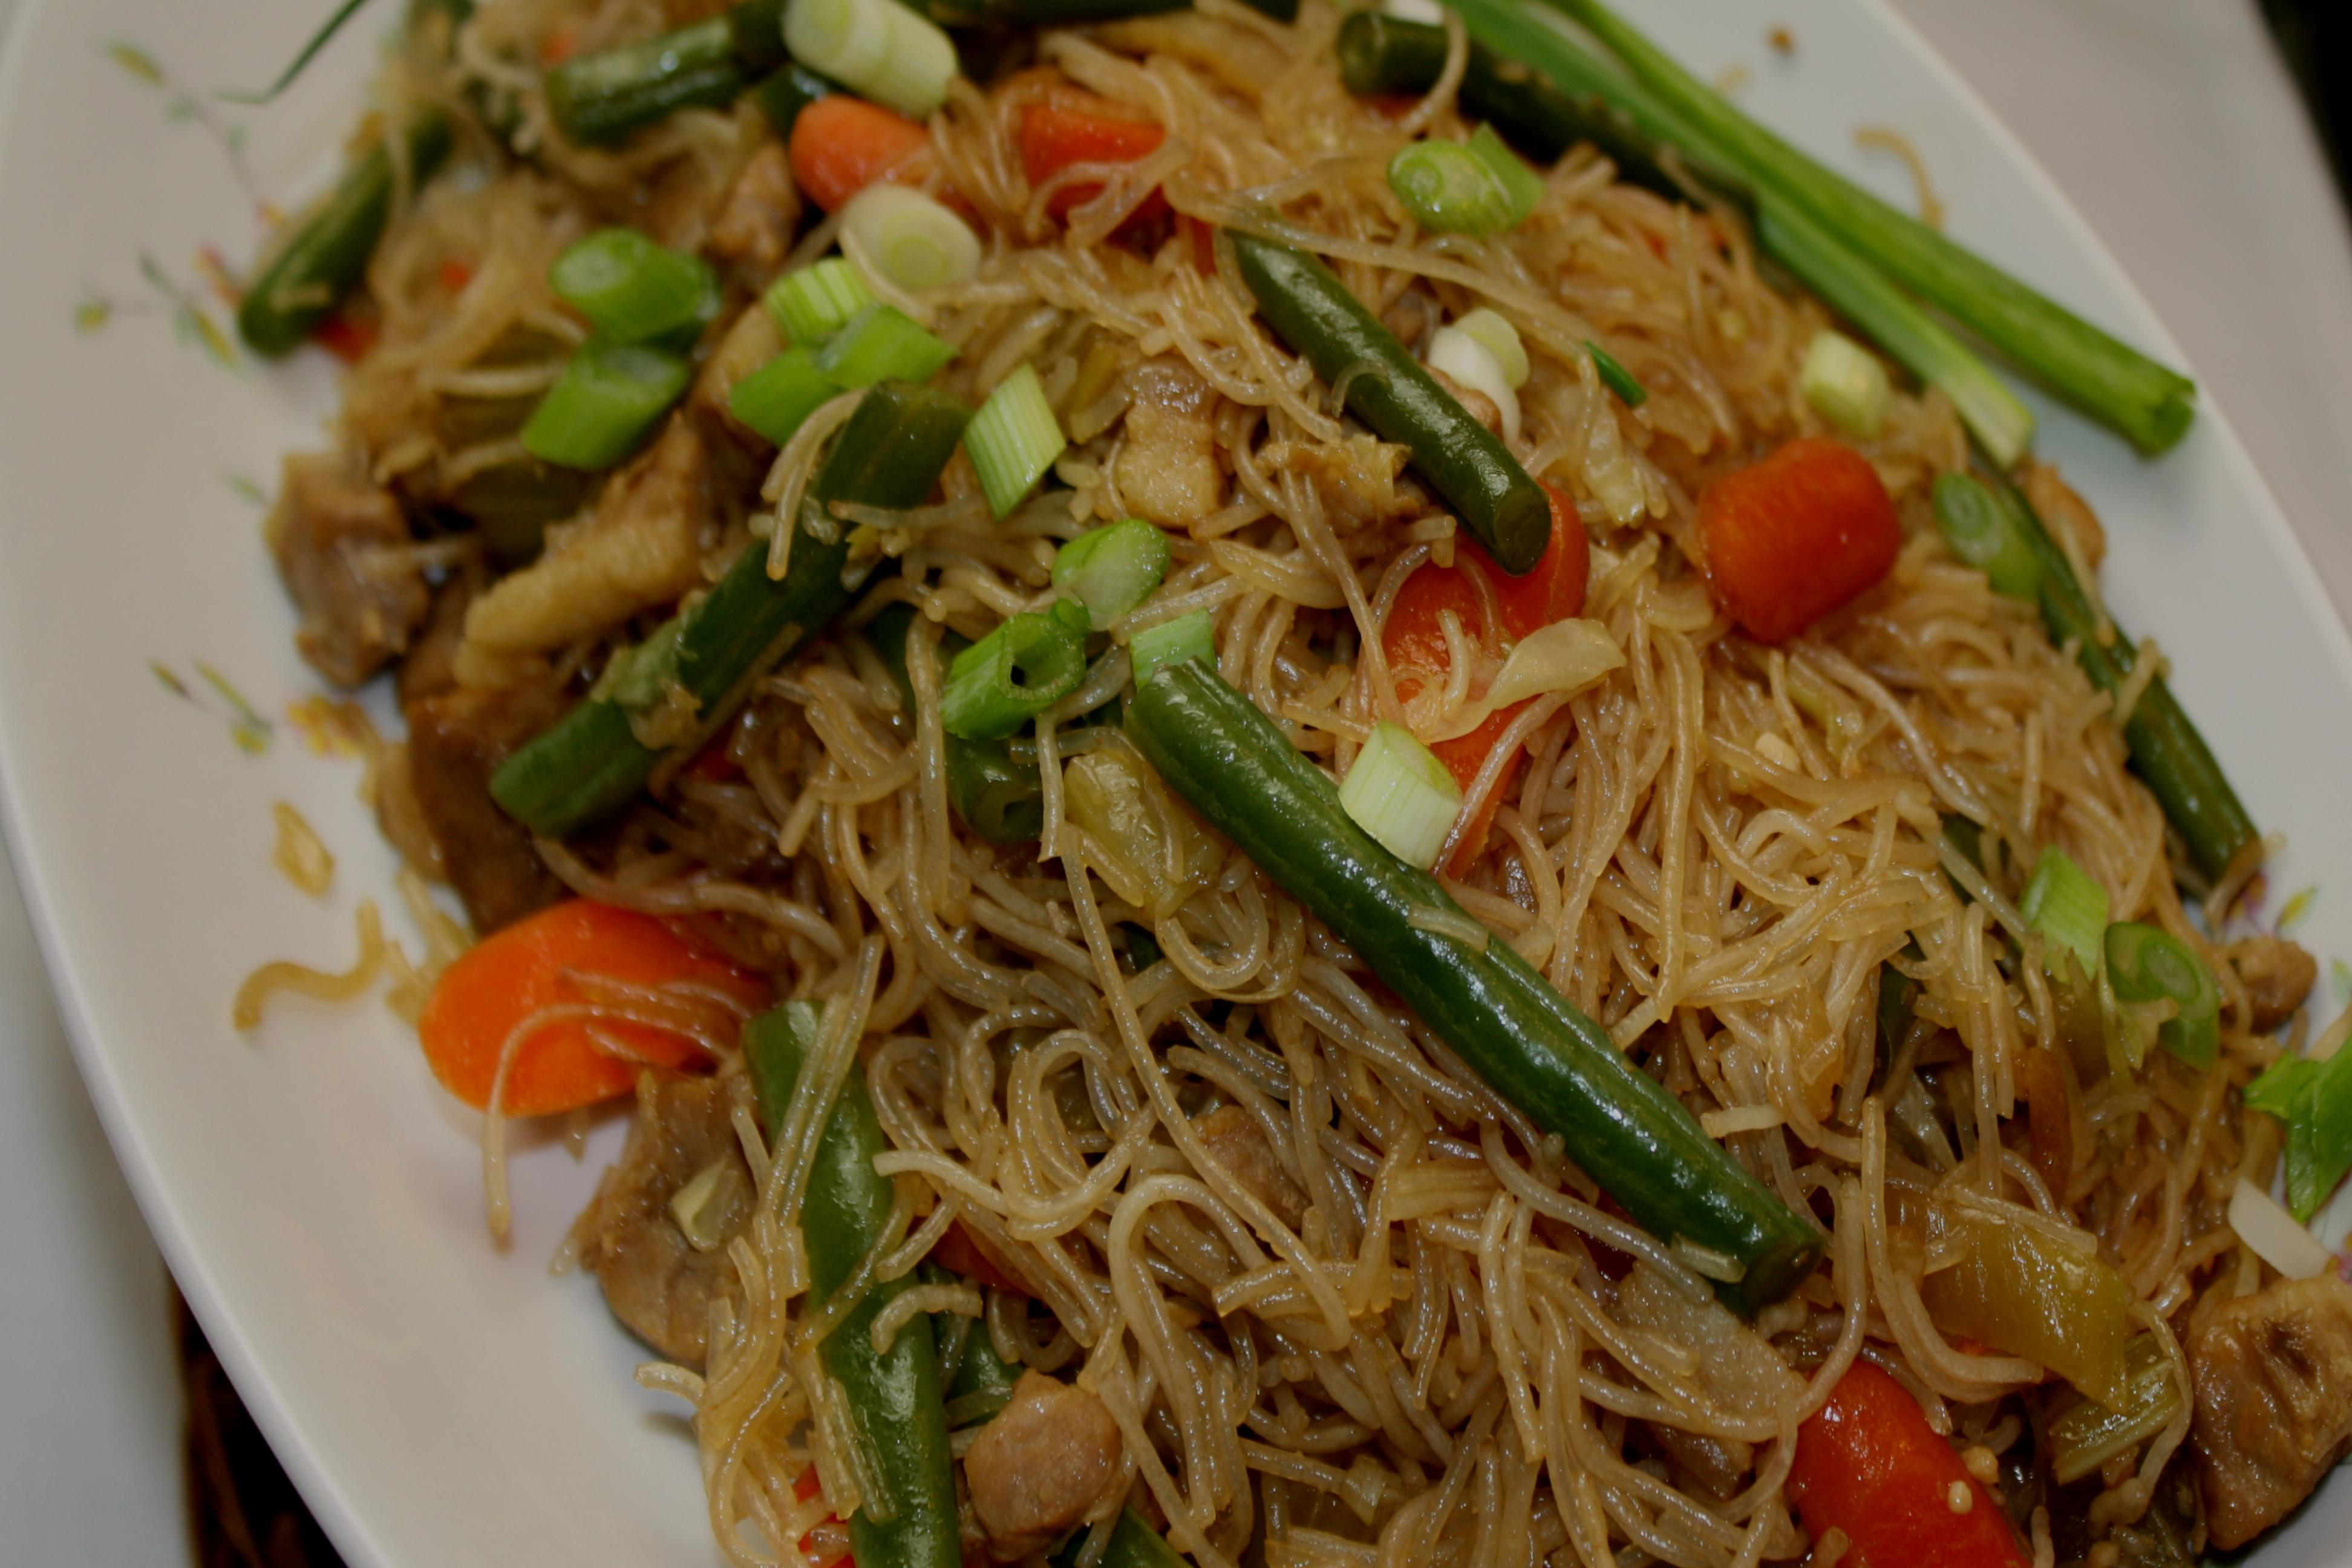pancit bihon: (315, 0, 2352, 1568)
